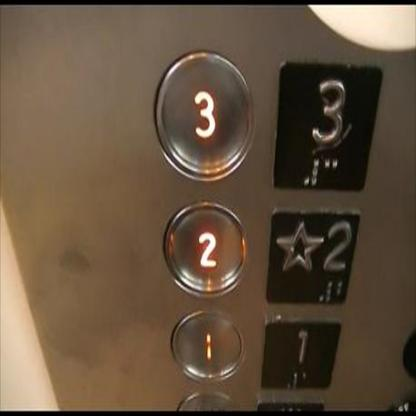1: (261, 315, 341, 392), (170, 308, 244, 385)
2: (163, 200, 249, 299)
3: (274, 57, 382, 192), (153, 49, 254, 182)
s2: (265, 206, 358, 304)
